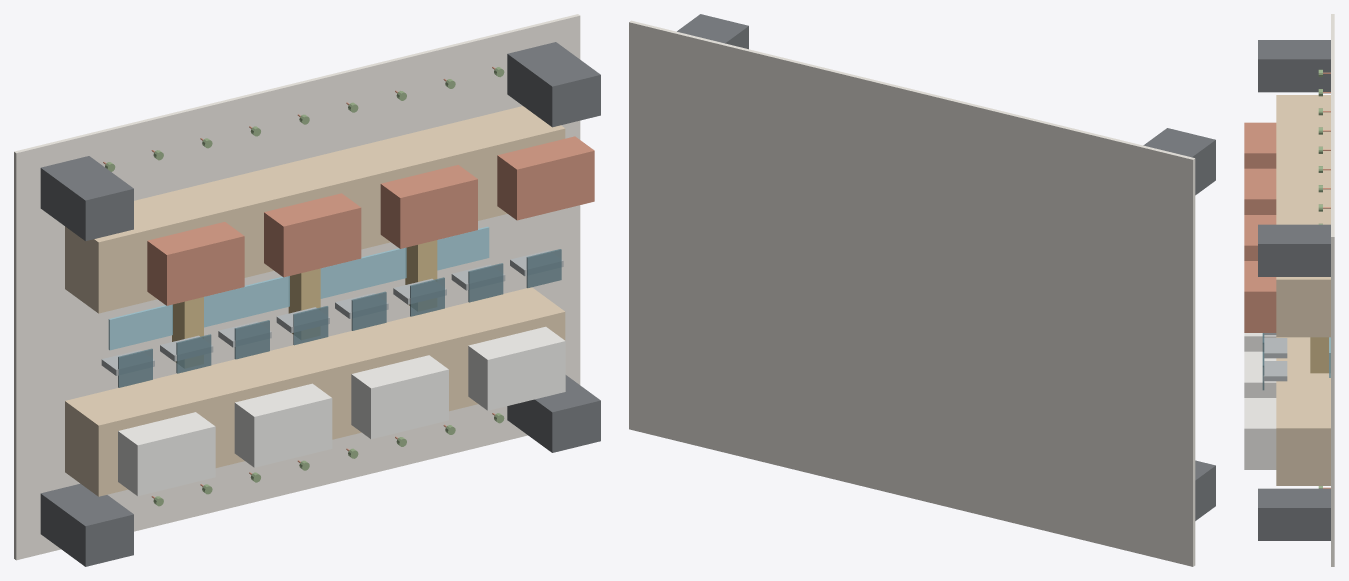
The model's file is solar_canyon.glb.
The picture shows the model from 3 angles, left to right: view 1: azimuth 30°, elevation 25°; view 2: azimuth 150°, elevation 25°; view 3: azimuth 270°, elevation 25°; orthographic projection. The views are drawn at different scales.
Parts seen in each view (by area): view 1: site_base, south_wall, north_wall, water_channel, south_pavilion_1, south_pavilion_0, north_pavilion_0, north_pavilion_1, north_pavilion_3, south_pavilion_2, north_pavilion_2, south_pavilion_3 (+23 smaller); view 2: site_base, entry_tower_left_1, entry_tower_right_1, entry_tower_left_0; view 3: north_wall, south_wall, entry_tower_right_0, entry_tower_right_1, entry_tower_left_1, south_pavilion_3, site_base, north_pavilion_3, north_pavilion_0, north_pavilion_1, south_pavilion_2, north_pavilion_2 (+4 smaller).
Part boxes in pixels (bbox=[...]): site_base: bbox=[14, 14, 580, 560]; south_wall: bbox=[65, 287, 565, 496]; north_wall: bbox=[65, 106, 565, 313]; water_channel: bbox=[108, 226, 489, 350]; south_pavilion_1: bbox=[234, 383, 332, 467]; south_pavilion_0: bbox=[118, 412, 215, 496]; north_pavilion_0: bbox=[147, 222, 244, 305]; north_pavilion_1: bbox=[264, 193, 361, 277]; north_pavilion_3: bbox=[497, 136, 594, 220]; south_pavilion_2: bbox=[351, 355, 448, 439]; north_pavilion_2: bbox=[380, 165, 477, 248]; south_pavilion_3: bbox=[468, 326, 565, 410]; site_base: bbox=[629, 20, 1195, 566]; entry_tower_left_1: bbox=[1143, 128, 1215, 195]; entry_tower_right_1: bbox=[677, 14, 748, 49]; entry_tower_left_0: bbox=[1195, 460, 1215, 520]; north_wall: bbox=[1276, 95, 1330, 337]; south_wall: bbox=[1276, 337, 1330, 485]; entry_tower_right_0: bbox=[1258, 488, 1330, 540]; entry_tower_right_1: bbox=[1258, 224, 1330, 276]; entry_tower_left_1: bbox=[1258, 40, 1330, 92]; south_pavilion_3: bbox=[1244, 398, 1276, 469]; site_base: bbox=[1331, 14, 1334, 566]; north_pavilion_3: bbox=[1244, 261, 1276, 332]; north_pavilion_0: bbox=[1244, 122, 1276, 168]; north_pavilion_1: bbox=[1244, 168, 1276, 214]; south_pavilion_2: bbox=[1244, 351, 1276, 397]; north_pavilion_2: bbox=[1244, 215, 1276, 260].
Bounding box in the file's own units: 116 × 80 × 19.8.
